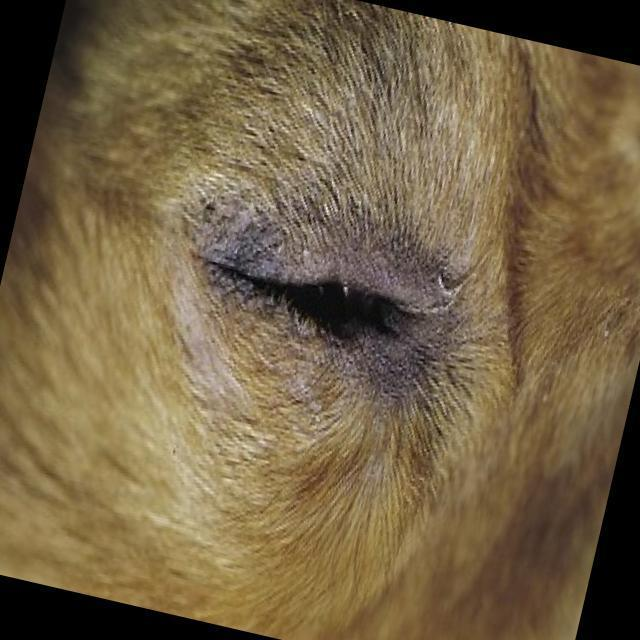allergic dermatitis: (192, 177, 434, 273), (368, 348, 462, 423), (378, 217, 452, 291), (413, 258, 454, 380)
